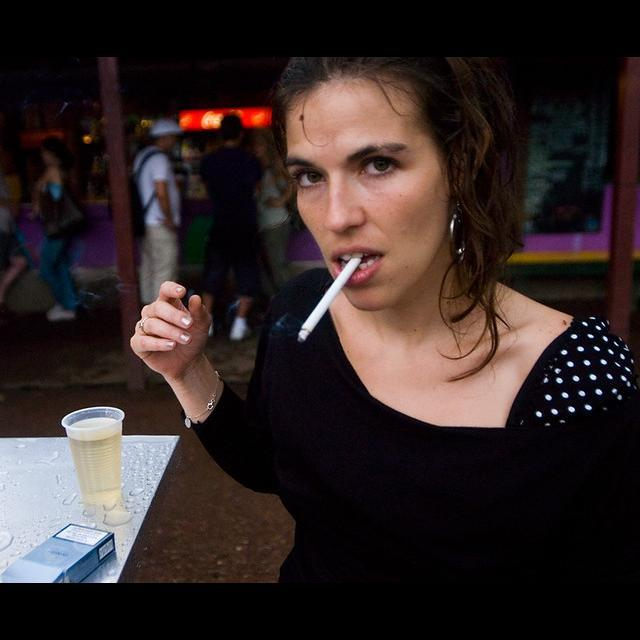rokok: (290, 248, 362, 342)
